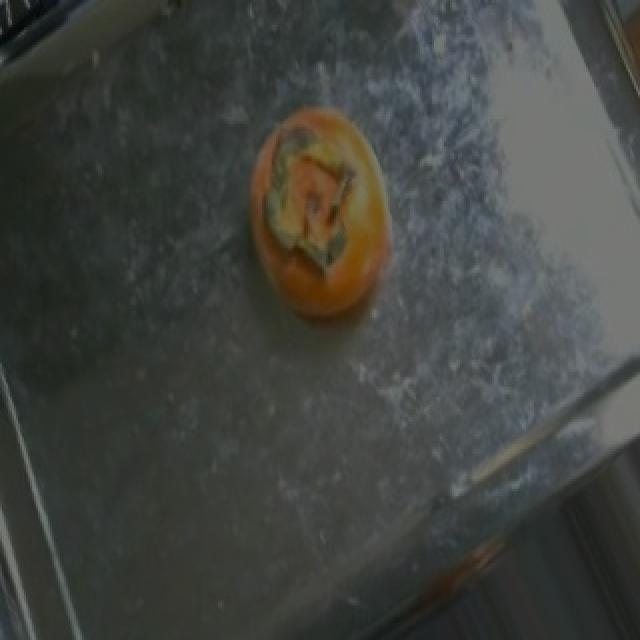Fruit: (224, 84, 428, 340), (592, 0, 640, 149)
